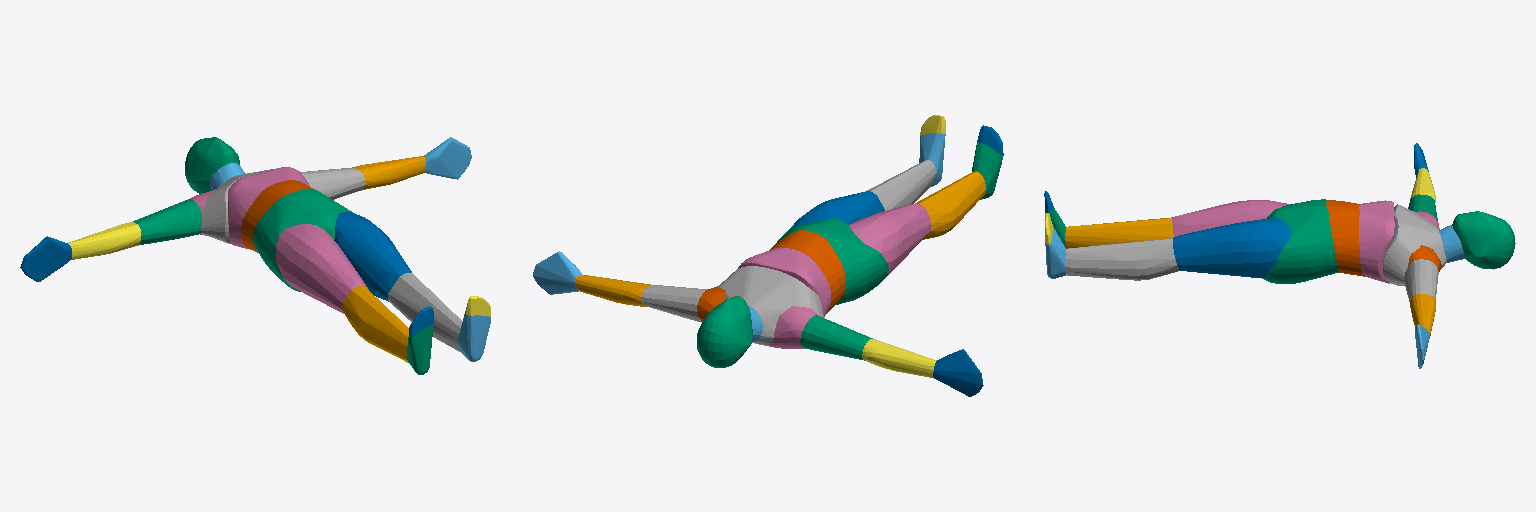
--- What the picture shows (computed from the rendered views, not written in the file) ---
Views: 3 orthographic renders of the robot side by side, from view 1: azimuth 30°, elevation 25°; view 2: azimuth 150°, elevation 25°; view 3: azimuth 270°, elevation 25°.
Model Humanoid with 29 links and 28 joints (12 revolute, 16 fixed), rooted at root, posed all joints at 0.
Links seen in each view (by area): view 1: right_UpLeg, left_UpLeg, hip, right_leg, left_leg, spine1, rightArm, head, rightForeArm, rightHand, leftForeArm, lefthand (+5 smaller); view 2: spine2, hip, right_UpLeg, head, right_leg, spine1, spine, rightArm, left_leg, left_UpLeg, rightForeArm, leftArm (+7 smaller); view 3: left_UpLeg, hip, left_leg, head, spine2, spine1, right_leg, right_UpLeg, spine, leftArm, leftForeArm, left_foot (+1 smaller).
Boxes of the visible links, x1,y1,x2,y2 form: right_UpLeg: [276, 224, 368, 313]; left_UpLeg: [334, 212, 411, 301]; hip: [253, 188, 354, 291]; right_leg: [342, 286, 409, 363]; left_leg: [387, 273, 462, 352]; spine1: [228, 167, 309, 248]; rightArm: [133, 199, 201, 244]; head: [185, 137, 239, 193]; rightForeArm: [68, 222, 140, 259]; rightHand: [20, 236, 71, 281]; leftForeArm: [353, 156, 425, 190]; lefthand: [424, 137, 471, 179]; spine2: [719, 266, 823, 346]; hip: [775, 218, 888, 304]; right_UpLeg: [849, 204, 930, 274]; head: [697, 296, 752, 367]; right_leg: [915, 171, 985, 239]; spine1: [738, 247, 830, 316]; spine: [770, 230, 845, 312]; rightArm: [800, 315, 872, 360]; left_leg: [865, 160, 936, 210]; left_UpLeg: [792, 191, 884, 226]; rightForeArm: [862, 339, 936, 377]; leftArm: [641, 285, 707, 322]; left_UpLeg: [1173, 218, 1291, 277]; hip: [1262, 199, 1338, 283]; left_leg: [1065, 238, 1179, 280]; head: [1452, 211, 1515, 269]; spine2: [1383, 204, 1446, 285]; spine1: [1359, 200, 1394, 283]; right_leg: [1065, 217, 1173, 248]; right_UpLeg: [1172, 200, 1289, 236]; spine: [1326, 200, 1364, 276]; leftArm: [1404, 259, 1438, 301]; leftForeArm: [1410, 293, 1435, 335]; left_foot: [1045, 229, 1065, 278].
Bounding box of the posed robot: 1.75 × 1.72 × 0.2905 m (x, y, z).
Meshes: 22 distinct files referenced, 22 mesh visuals loaded (22 OBJ).

The robot description file, URDF, robot "Humanoid":
<?xml version="1.0"?>
<robot name="Humanoid">
    <link name="root">
		
	</link>

    <link name="assist_link1">
        
    </link>

    <joint name="0" type="fixed">
        <origin xyz="0 0 0" rpy="0.0 0.0 0.0"/>
        <parent link="root"/>
        <child link="assist_link1"/>
        <axis xyz="0.0 0.0 0.0"/>
        <limit lower="0.0" upper="0.0" effort="0.0" velocity="0.0"/>
    </joint>

    <joint name="assist_jointA1" type="fixed">
        <origin xyz="0.0 0.0 0.0" rpy="0.0 0.0 0.0"/>
        <parent link="assist_link1"/>
        <child link="hip"/>
        <axis xyz="0.0 0.0 0.0"/>
        <limit lower="0.0" upper="0.0" effort="0.0" velocity="0.0"/>
    </joint>

    <link name="hip">
        <inertial>
            <origin xyz="0.00057561 -0.00681268 -0.01696218" rpy="0.0 0.0 0.0"/>
            <mass value="0.0"/>
            <inertia ixx="0.0" ixy="0.0" ixz="0.0" iyy="0.0" iyz="0.0" izz="0.0"/>
        </inertial>
        <visual>
            <origin xyz="0.00057561 -0.00681268 -0.01696218" rpy="0.0 0.0 0.0"/>
            <geometry>
                <mesh filename="package://Humanoid/meshes/body_parts_hips.obj" />
            </geometry>
        </visual>
        <collision>
            <origin xyz="0.00057561 -0.00681268 -0.01696218" rpy="0.0 0.0 0.0"/>
            <geometry>
                <mesh filename="package://Humanoid/meshes/body_parts_hips.obj" />
            </geometry>
        </collision>
    </link>

    <joint name="assist_jointA2" type="fixed">
        <origin xyz="0.0 0.0 0.0" rpy="0.0 0.0 0.0"/>
        <parent link="assist_link1"/>
        <child link="temp1"/>
        <axis xyz="0.0 0.0 0.0"/>
        <limit lower="0.0" upper="0.0" effort="0.0" velocity="0.0"/>
    </joint>

    <link name="temp2">
        
    </link>

    <link name="left_UpLeg">
        <inertial>
            <origin xyz="0.02136212 -0.15149257 0.00267958" rpy="0.0 0.0 0.0"/>
            <mass value="0.0"/>
            <inertia ixx="0.0" ixy="0.0" ixz="0.0" iyy="0.0" iyz="0.0" izz="0.0"/>
        </inertial>
        <visual>
            <origin xyz="0.02136212  -0.15149257  0.00267958" rpy="0.0 0.0 0.0"/>
            <geometry>
                <mesh filename="package://Humanoid/meshes/body_parts_leftUpLeg.obj" />
            </geometry>
        </visual>
        <collision>
            <origin xyz="0.02136212 -0.15149257 0.00267958" rpy="0.0 0.0 0.0"/>
            <geometry>
                <mesh filename="package://Humanoid/meshes/body_parts_leftUpLeg.obj" />
            </geometry>
        </collision>
    </link>

    <joint name="2" type="revolute">
        <origin xyz="0.06951974 -0.09140623 -0.00681533" rpy="0.0 0.0 0.0"/>
        <parent link="temp2"/>
        <child link="left_UpLeg"/>
        <axis xyz="1.0 0.0 0.0"/>
        <limit lower="-2.5" upper="1.4" effort="1000.0" velocity="0.5"/>
    </joint>

    <link name="temp1">
        
    </link>

    <joint name="assist_jointA3" type="fixed">
        <origin xyz="0.0 0.0 0.0" rpy="0.0 0.0 0.0"/>
        <parent link="assist_link1"/>
        <child link="temp2"/>
    </joint>

    <link name="right_UpLeg">
        <inertial>
            <origin xyz="-0.02252603 -0.15352734 -0.00307775" rpy="0.0 0.0 0.0"/>
            <mass value="0.0"/>
            <inertia ixx="0.0" ixy="0.0" ixz="0.0" iyy="0.0" iyz="0.0" izz="0.0"/>
        </inertial>
        <visual>
            <origin xyz="-0.02252603 -0.15352734 -0.00307775" rpy="0.0 0.0 0.0"/>
            <geometry>
                <mesh filename="package://Humanoid/meshes/body_parts_rightUpLeg.obj" />
            </geometry>
        </visual>
        <collision>
            <origin xyz="-0.02252603 -0.15352734 -0.00307775" rpy="0.0 0.0 0.0"/>
            <geometry>
                <mesh filename="package://Humanoid/meshes/body_parts_rightUpLeg.obj" />
            </geometry>
        </collision>
    </link>

    <joint name="1" type="revolute">
        <origin xyz="-0.06767048 -0.09052169 -0.00431982" rpy="0.0 0.0 0.0"/>
        <parent link="temp1"/>
        <child link="right_UpLeg"/>
        <axis xyz="1.0 0.0 0.0"/>
        <limit lower="-2.5" upper="1.4" effort="1000.0" velocity="0.5"/>
    </joint>

    <link name="left_leg">
        <inertial>
            <origin xyz="-0.00726278 -0.16462932 -0.0345356" rpy="0.0 0.0 0.0"/>
            <mass value="0.0"/>
            <inertia ixx="0.0" ixy="0.0" ixz="0.0" iyy="0.0" iyz="0.0" izz="0.0"/>
        </inertial>
        <visual>
            <origin xyz="-0.00726278 -0.16462932 -0.0345356" rpy="0.0 0.0 0.0"/>
            <geometry>
                <mesh filename="package://Humanoid/meshes/body_parts_leftLeg.obj" />
            </geometry>
        </visual>
        <collision>
            <origin xyz="-0.00726278 -0.16462932 -0.0345356" rpy="0.0 0.0 0.0"/>
            <geometry>
                <mesh filename="package://Humanoid/meshes/body_parts_leftLeg.obj" />
            </geometry>
        </collision>
    </link>

    <joint name="5" type="revolute">
        <origin xyz="0.03427655 -0.37519857 -0.00449581" rpy="0.0 0.0 0.0"/>
        <parent link="left_UpLeg"/>
        <child link="left_leg"/>
        <axis xyz="1.0 0.0 0.0"/>
        <limit lower="-0.1" upper="2.5" effort="1000.0" velocity="0.5"/>
    </joint>

    <link name="right_leg">
        <inertial>
            <origin xyz="0.01018021 -0.15886355 -0.03476419" rpy="0.0 0.0 0.0"/>
            <mass value="0.0"/>
            <inertia ixx="0.0" ixy="0.0" ixz="0.0" iyy="0.0" iyz="0.0" izz="0.0"/>
        </inertial>
        <visual>
            <origin xyz="0.01018021 -0.15886355 -0.03476419" rpy="0.0 0.0 0.0"/>
            <geometry>
                <mesh filename="package://Humanoid/meshes/body_parts_rightLeg.obj" />
            </geometry>
        </visual>
        <collision>
            <origin xyz="0.01018021 -0.15886355 -0.03476419" rpy="0.0 0.0 0.0"/>
            <geometry>
                <mesh filename="package://Humanoid/meshes/body_parts_rightLeg.obj" />
            </geometry>
        </collision>
    </link>

    <joint name="4" type="revolute">
        <origin xyz="-0.03829005 -0.382569 -0.00885003" rpy="0.0 0.0 0.0"/>
        <parent link="right_UpLeg"/>
        <child link="right_leg"/>
        <axis xyz="1.0 0.0 0.0"/>
        <limit lower="-0.1" upper="2.5" effort="1000.0" velocity="0.5"/>
    </joint>

    <link name="left_foot">
        <inertial>
            <origin xyz="0.01451171 -0.03682505 0.03742239" rpy="0.0 0.0 0.0"/>
            <mass value="0.0"/>
            <inertia ixx="0.0" ixy="0.0" ixz="0.0" iyy="0.0" iyz="0.0" izz="0.0"/>
        </inertial>
        <visual>
            <origin xyz="0.01451171 -0.03682505 0.03742239" rpy="0.0 0.0 0.0"/>
            <geometry>
                <mesh filename="package://Humanoid/meshes/body_parts_leftFoot.obj" />
            </geometry>
        </visual>
        <collision>
            <origin xyz="0.01451171 -0.03682505 0.03742239" rpy="0.0 0.0 0.0"/>
            <geometry>
                <mesh filename="package://Humanoid/meshes/body_parts_leftFoot.obj" />
            </geometry>
        </collision>
    </link>

    <joint name="8" type="revolute">
        <origin xyz="-0.0135957 -0.39796048 -0.04369333" rpy="0.0 0.0 0.0"/>
        <parent link="left_leg"/>
        <child link="left_foot"/>
        <axis xyz="1.0 0.0 0.0"/>
        <limit lower="-0.4" upper="0.7" effort="1000.0" velocity="0.5"/>
    </joint>

    <link name="right_foot">
        <inertial>
            <origin xyz="-0.01278681 -0.02989952 0.0397387" rpy="0.0 0.0 0.0"/>
            <mass value="0.0"/>
            <inertia ixx="0.0" ixy="0.0" ixz="0.0" iyy="0.0" iyz="0.0" izz="0.0"/>
        </inertial>
        <visual>
            <origin xyz="-0.01278681 -0.02989952 0.0397387" rpy="0.0 0.0 0.0"/>
            <geometry>
                <mesh filename="package://Humanoid/meshes/body_parts_rightFoot.obj" />
            </geometry>
        </visual>
        <collision>
            <origin xyz="-0.01278681 -0.02989952 0.0397387" rpy="0.0 0.0 0.0"/>
            <geometry>
                <mesh filename="package://Humanoid/meshes/body_parts_rightFoot.obj" />
            </geometry>
        </collision>
    </link>

    <joint name="7" type="revolute">
        <origin xyz="0.01577377 -0.3984146 -0.0423118" rpy="0.0 0.0 0.0"/>
        <parent link="right_leg"/>
        <child link="right_foot"/>
        <axis xyz="1.0 0.0 0.0"/>
        <limit lower="-0.4" upper="0.7" effort="1000.0" velocity="0.5"/>
    </joint>

    <link name="left_toe">
        <inertial>
            <origin xyz="-0.0072139 -0.00405795 0.02618084" rpy="0.0 0.0 0.0"/>
            <mass value="0.0"/>
            <inertia ixx="0.0" ixy="0.0" ixz="0.0" iyy="0.0" iyz="0.0" izz="0.0"/>
        </inertial>
        <visual>
            <origin xyz="-0.0072139 -0.00405795 0.02618084" rpy="0.0 0.0 0.0"/>
            <geometry>
                <mesh filename="package://Humanoid/meshes/body_parts_leftToeBase.obj" />
            </geometry>
        </visual>
        <collision>
            <origin xyz="-0.0072139 -0.00405795 0.02618084" rpy="0.0 0.0 0.0"/>
            <geometry>
                <mesh filename="package://Humanoid/meshes/body_parts_leftToeBase.obj" />
            </geometry>
        </collision>
    </link>

    <joint name="11" type="fixed">
        <origin xyz="0.02635814 -0.05579078 0.1192884" rpy="0.0 0.0 0.0"/>
        <parent link="left_foot"/>
        <child link="left_toe"/>
        <axis xyz="0.0 0.0 0.0"/>
        <limit lower="0.0" upper="0.0" effort="0.0" velocity="0.0"/>
    </joint>

    <link name="right_toe">
        <inertial>
            <origin xyz="0.00808544 -0.00602809 0.02469485" rpy="0.0 0.0 0.0"/>
            <mass value="0.0"/>
            <inertia ixx="0.0" ixy="0.0" ixz="0.0" iyy="0.0" iyz="0.0" izz="0.0"/>
        </inertial>
        <visual>
            <origin xyz="0.00808544 -0.00602809 0.02469485" rpy="0.0 0.0 0.0"/>
            <geometry>
                <mesh filename="package://Humanoid/meshes/body_parts_rightToeBase.obj" />
            </geometry>
        </visual>
        <collision>
            <origin xyz="0.00808544 -0.00602809 0.02469485" rpy="0.0 0.0 0.0"/>
            <geometry>
                <mesh filename="package://Humanoid/meshes/body_parts_rightToeBase.obj" />
            </geometry>
        </collision>
    </link>

    <joint name="10" type="fixed">
        <origin xyz="-0.02537176 -0.04814398 0.12334795" rpy="0.0 0.0 0.0"/>
        <parent link="right_foot"/>
        <child link="right_toe"/>
        <axis xyz="0.0 0.0 0.0"/>
        <limit lower="0.0" upper="0.0" effort="0.0" velocity="0.0"/>
    </joint>

    <link name="spine">
        <inertial>
            <origin xyz="0.0029969 0.06265952 0.02763221" rpy="0.0 0.0 0.0"/>
            <mass value="0.0"/>
            <inertia ixx="0.0" ixy="0.0" ixz="0.0" iyy="0.0" iyz="0.0" izz="0.0"/>
        </inertial>
        <visual>
            <origin xyz="0.0029969 0.06265952 0.02763221" rpy="0.0 0.0 0.0"/>
            <geometry>
                <mesh filename="package://Humanoid/meshes/body_parts_spine.obj" />
            </geometry>
        </visual>
        <collision>
            <origin xyz="0.0029969 0.06265952 0.02763221" rpy="0.0 0.0 0.0"/>
            <geometry>
                <mesh filename="package://Humanoid/meshes/body_parts_spine.obj" />
            </geometry>
        </collision>
    </link>
    
    <joint name="3" type="fixed">
        <origin xyz="-0.00253287 0.10896324 -0.02669631" rpy="0.0 0.0 0.0"/>
        <parent link="hip"/>
        <child link="spine"/>
        <axis xyz="0.0 0.0 0.0"/>
        <limit lower="0.0" upper="0.0" effort="0.0" velocity="0.0"/>
    </joint>

    <link name="spine1">
        <inertial>
            <origin xyz="-0.00052418 0.02933144 0.02045965" rpy="0.0 0.0 0.0"/>
            <mass value="0.0"/>
            <inertia ixx="0.0" ixy="0.0" ixz="0.0" iyy="0.0" iyz="0.0" izz="0.0"/>
        </inertial>
        <visual>
            <origin xyz="-0.00052418 0.02933144 0.02045965" rpy="0.0 0.0 0.0"/>
            <geometry>
                <mesh filename="package://Humanoid/meshes/body_parts_spine1.obj" />
            </geometry>
        </visual>
        <collision>
            <origin xyz="-0.00052418 0.02933144 0.02045965" rpy="0.0 0.0 0.0"/>
            <geometry>
                <mesh filename="package://Humanoid/meshes/body_parts_spine1.obj" />
            </geometry>
        </collision>
    </link>

    <joint name="6" type="fixed">
        <origin xyz="0.00548704 0.13518043 0.00109247" rpy="0.0 0.0 0.0"/>
        <parent link="spine"/>
        <child link="spine1"/>
        <axis xyz="0.0 0.0 0.0"/>
        <limit lower="0.0" upper="0.0" effort="0.0" velocity="0.0"/>
    </joint>

    <link name="spine2">
        <inertial>
            <origin xyz="-0.0022121 0.09440039 -0.03596294" rpy="0.0 0.0 0.0"/>
            <mass value="0.0"/>
            <inertia ixx="0.0" ixy="0.0" ixz="0.0" iyy="0.0" iyz="0.0" izz="0.0"/>
        </inertial>
        <visual>
            <origin xyz="-0.0022121 0.09440039 -0.03596294" rpy="0.0 0.0 0.0"/>
            <geometry>
                <mesh filename="package://Humanoid/meshes/body_parts_spine2.obj" />
            </geometry>
        </visual>
        <collision>
            <origin xyz="-0.0022121 0.09440039 -0.03596294" rpy="0.0 0.0 0.0"/>
            <geometry>
                <mesh filename="package://Humanoid/meshes/body_parts_spine2.obj" />
            </geometry>
        </collision>
    </link>

    <link name="assist_link2">
        
    </link>

    <joint name="9" type="revolute">
        <origin xyz="0.001457 0.05292223 0.02542457" rpy="0.0 0.0 0.0"/>
        <parent link="spine1"/>
        <child link="assist_link2"/>
        <axis xyz="0.0 1.0 0.0"/>
        <limit lower="-1.4" upper="1.4" effort="1000.0" velocity="0.5"/>
    </joint>

    <joint name="assist_B1" type="fixed">
        <origin xyz="0.0 0.0 0.0" rpy="0.0 0.0 0.0"/>
        <parent link="assist_link2"/>
        <child link="temp14"/>
        <axis xyz="0.0 0.0 0.0"/>
        <limit lower="0.0" upper="0.0" effort="0.0" velocity="0.0"/>
    </joint>

     <joint name="assist_B2" type="fixed">
        <origin xyz="0.0 0.0 0.0" rpy="0.0 0.0 0.0"/>
        <parent link="assist_link2"/>
        <child link="spine2"/>
        <axis xyz="0.0 0.0 0.0"/>
        <limit lower="0.0" upper="0.0" effort="0.0" velocity="0.0"/>
    </joint>

     <joint name="assist_B3" type="fixed">
        <origin xyz="0.0 0.0 0.0" rpy="0.0 0.0 0.0"/>
        <parent link="assist_link2"/>
        <child link="temp13"/>
        <axis xyz="0.0 0.0 0.0"/>
        <limit lower="0.0" upper="0.0" effort="0.0" velocity="0.0"/>
    </joint>
    

    <link name="neck">
        <inertial>
            <origin xyz="0.00058504 0.03762274 0.01938053" rpy="0.0 0.0 0.0"/>
            <mass value="0.0"/>
            <inertia ixx="0.0" ixy="0.0" ixz="0.0" iyy="0.0" iyz="0.0" izz="0.0"/>
        </inertial>
        <visual>
            <origin xyz="0.00058504 0.03762274 0.01938053" rpy="0.0 0.0 0.0"/>
            <geometry>
                <mesh filename="package://Humanoid/meshes/body_parts_neck.obj" />
            </geometry>
        </visual>
        <collision>
            <origin xyz="0.00058504 0.03762274 0.01938053" rpy="0.0 0.0 0.0"/>
            <geometry>
                <mesh filename="package://Humanoid/meshes/body_parts_neck.obj" />
            </geometry>
        </collision>
    </link>

    <joint name="12" type="revolute">
        <origin xyz="-0.00277839 0.21387038 -0.04285703" rpy="0.0 0.0 0.0"/>
        <parent link="spine2"/>
        <child link="neck"/>
        <axis xyz="0.0 1.0 0.0"/>
        <limit lower="-0.6" upper="0.6" effort="1000.0" velocity="0.5"/>
    </joint>

    <link name="head">
        <inertial>
            <origin xyz="-0.00434165 0.0912436 -0.0164248" rpy="0.0 0.0 0.0"/>
            <mass value="0.0"/>
            <inertia ixx="0.0" ixy="0.0" ixz="0.0" iyy="0.0" iyz="0.0" izz="0.0"/>
        </inertial>
        <visual>
            <origin xyz="-0.00434165 0.0912436 -0.0164248" rpy="0.0 0.0 0.0"/>
            <geometry>
                <mesh filename="package://Humanoid/meshes/body_parts_head.obj" />
            </geometry>
        </visual>
        <collision>
            <origin xyz="-0.00434165 0.0912436 -0.0164248" rpy="0.0 0.0 0.0"/>
            <geometry>
                <mesh filename="package://Humanoid/meshes/body_parts_head.obj" />
            </geometry>
        </collision>
    </link>

    <joint name="15" type="fixed">
        <origin xyz="0.00515184 0.06496963 0.05134897" rpy="0.0 0.0 0.0"/>
        <parent link="neck"/>
        <child link="head"/>
        <axis xyz="0.0 0.0 0.0"/>
        <limit lower="0.0" upper="0.0" effort="0.0" velocity="0.0"/>
    </joint>

    <link name="temp14">
        <inertial>
            <origin xyz="0.0 0.0 0.0" rpy="0.0 0.0 0.0"/>
            <mass value="0.0"/>
            <inertia ixx="0.0" ixy="0.0" ixz="0.0" iyy="0.0" iyz="0.0" izz="0.0"/>
        </inertial>
        <visual name="">
            <origin xyz="0.0 0.0 0.0" rpy="0.0 0.0 0.0"/>
            <geometry>
                <box size="0.0 0.0 0.0"/>
            </geometry>
            <material name="">
                <color rgba="1.0 0.0 0.0 1.0"/>
                <texture filename=""/>
            </material>
        </visual>
        <collision>
            <origin xyz="0.0 0.0 0.0" rpy="0.0 0.0 0.0"/>
            <geometry>
                <box size="0.0 0.0 0.0"/>
            </geometry>
        </collision>
    </link>

    <joint name="14" type="fixed">
        <origin xyz="0.07884474 0.12174932 -0.03408961" rpy="0.0 0.0 0.0"/>
        <parent link="temp14"/>
        <child link="leftShoulder"/>
        <axis xyz="1.0 0.0 1.0"/>
        <limit lower="-1.0" upper="1.0" effort="1000.0" velocity="0.5"/>
    </joint>

    <link name="temp13">
        <inertial>
            <origin xyz="0.0 0.0 0.0" rpy="0.0 0.0 0.0"/>
            <mass value="0.0"/>
            <inertia ixx="0.0" ixy="0.0" ixz="0.0" iyy="0.0" iyz="0.0" izz="0.0"/>
        </inertial>
        <visual name="">
            <origin xyz="0.0 0.0 0.0" rpy="0.0 0.0 0.0"/>
            <geometry>
                <box size="0.0 0.0 0.0"/>
            </geometry>
            <material name="">
                <color rgba="1.0 0.0 0.0 1.0"/>
                <texture filename=""/>
            </material>
        </visual>
        <collision>
            <origin xyz="0.0 0.0 0.0" rpy="0.0 0.0 0.0"/>
            <geometry>
                <box size="0.0 0.0 0.0"/>
            </geometry>
        </collision>
    </link>

    <joint name="13" type="fixed">
        <origin xyz="-0.08175919 0.11883285 -0.03861528" rpy="0.0 0.0 0.0"/>
        <parent link="temp13"/>
        <child link="rightShoulder"/>
        <axis xyz="1.0 0.0 1.0"/>
        <limit lower="-1.0" upper="1.0" effort="1000.0" velocity="0.5"/>
    </joint>

    <link name="leftShoulder">
        <inertial>
            <origin xyz="0.06559623 0.02613187 -0.02027318" rpy="0.0 0.0 0.0"/>
            <mass value="0.0"/>
            <inertia ixx="0.0" ixy="0.0" ixz="0.0" iyy="0.0" iyz="0.0" izz="0.0"/>
        </inertial>
        <visual>
            <origin xyz="0.06559623 0.02613187 -0.02027318" rpy="0.0 0.0 0.0"/>
            <geometry>
                <mesh filename="package://Humanoid/meshes/body_parts_leftShoulder.obj" />
            </geometry>
        </visual>
        <collision>
            <origin xyz="0.06559623 0.02613187 -0.02027318" rpy="0.0 0.0 0.0"/>
            <geometry>
                <mesh filename="package://Humanoid/meshes/body_parts_leftShoulder.obj" />
            </geometry>
        </collision>
    </link>

    <link name="rightShoulder">
        <inertial>
            <origin xyz="-0.0667859 0.02682777 -0.01567558" rpy="0.0 0.0 0.0"/>
            <mass value="0.0"/>
            <inertia ixx="0.0" ixy="0.0" ixz="0.0" iyy="0.0" iyz="0.0" izz="0.0"/>
        </inertial>
        <visual>
            <origin xyz="-0.0667859 0.02682777 -0.01567558" rpy="0.0 0.0 0.0"/>
            <geometry>
                <mesh filename="package://Humanoid/meshes/body_parts_rightShoulder.obj" />
            </geometry>
        </visual>
        <collision>
            <origin xyz="-0.0667859 0.02682777 -0.01567558" rpy="0.0 0.0 0.0"/>
            <geometry>
                <mesh filename="package://Humanoid/meshes/body_parts_rightShoulder.obj" />
            </geometry>
        </collision>
    </link>

    <joint name="17" type="revolute">
        <origin xyz="0.09097692 0.03046888 -0.00886815" rpy="0.0 0.0 0.0"/>
        <parent link="leftShoulder"/>
        <child link="leftArm"/>
        <axis xyz="0.0 0.0 1.0"/>
        <limit lower="-1.4" upper="0.9" effort="1000.0" velocity="0.5"/>
    </joint>

    <link name="leftArm">
        <inertial>
            <origin xyz="0.12948829 -0.01228957 -0.0090026" rpy="0.0 0.0 0.0"/>
            <mass value="0.0"/>
            <inertia ixx="0.0" ixy="0.0" ixz="0.0" iyy="0.0" iyz="0.0" izz="0.0"/>
        </inertial>
        <visual>
            <origin xyz="0.12948829 -0.01228957 -0.0090026" rpy="0.0 0.0 0.0"/>
            <geometry>
                <mesh filename="package://Humanoid/meshes/body_parts_leftArm.obj" />
            </geometry>
        </visual>
        <collision>
            <origin xyz="0.12948829 -0.01228957 -0.0090026" rpy="0.0 0.0 0.0"/>
            <geometry>
                <mesh filename="package://Humanoid/meshes/body_parts_leftArm.obj" />
            </geometry>
        </collision>
    </link>

    <joint name="19" type="fixed">
        <origin xyz="0.2596122 -0.01277207 -0.02745643" rpy="0.0 0.0 0.0"/>
        <parent link="leftArm"/>
        <child link="leftForeArm"/>
    </joint>

    <link name="leftForeArm">
        <inertial>
            <origin xyz="0.10665728 0.00690599 0.00605961" rpy="0.0 0.0 0.0"/>
            <mass value="0.0"/>
            <inertia ixx="0.0" ixy="0.0" ixz="0.0" iyy="0.0" iyz="0.0" izz="0.0"/>
        </inertial>
        <visual>
            <origin xyz="0.10665728 0.00690599 0.00605961" rpy="0.0 0.0 0.0"/>
            <geometry>
                <mesh filename="package://Humanoid/meshes/body_parts_leftForeArm.obj" />
            </geometry>
        </visual>
        <collision>
            <origin xyz="0.10665728 0.00690599 0.00605961" rpy="0.0 0.0 0.0"/>
            <geometry>
                <mesh filename="package://Humanoid/meshes/body_parts_leftForeArm.obj" />
            </geometry>
        </collision>
    </link>

    <joint name="21" type="revolute">
        <origin xyz="0.2492336 0.00898604 -0.00117092" rpy="0.0 0.0 0.0"/>
        <parent link="leftForeArm"/>
        <child link="lefthand"/>
        <axis xyz="0.0 0.0 1.0"/>
        <limit lower="-1.4" upper="0.6" effort="1000.0" velocity="0.5"/>
    </joint>

    <link name="lefthand">
        <inertial>
            <origin xyz="0.08488861 -0.00938576 0.00616219" rpy="0.0 0.0 0.0"/>
            <mass value="0.0"/>
            <inertia ixx="0.0" ixy="0.0" ixz="0.0" iyy="0.0" iyz="0.0" izz="0.0"/>
        </inertial>
        <visual>
            <origin xyz="0.08488861 -0.00938576 0.00616219" rpy="0.0 0.0 0.0"/>
            <geometry>
                <mesh filename="package://Humanoid/meshes/body_parts_leftHand.obj" />
            </geometry>
        </visual>
        <collision>
            <origin xyz="0.08488861 -0.00938576 0.00616219" rpy="0.0 0.0 0.0"/>
            <geometry>
                <mesh filename="package://Humanoid/meshes/body_parts_leftHand.obj" />
            </geometry>
        </collision>
    </link>

    <joint name="16" type="revolute">
        <origin xyz="-0.09601238 0.03255117 -0.00914307" rpy="0.0 0.0 0.0"/>
        <parent link="rightShoulder"/>
        <child link="rightArm"/>
        <axis xyz="0.0 0.0 1.0"/>
        <limit lower="-1.4" upper="0.9" effort="1000.0" velocity="0.5"/>
    </joint>

    <link name="rightArm">
        <inertial>
            <origin xyz="-0.12550239 -0.01296561 -0.00590812" rpy="0.0 0.0 0.0"/>
            <mass value="0.0"/>
            <inertia ixx="0.0" ixy="0.0" ixz="0.0" iyy="0.0" iyz="0.0" izz="0.0"/>
        </inertial>
        <visual>
            <origin xyz="-0.12550239 -0.01296561 -0.00590812" rpy="0.0 0.0 0.0"/>
            <geometry>
                <mesh filename="package://Humanoid/meshes/body_parts_rightArm.obj" />
            </geometry>
        </visual>
        <collision>
            <origin xyz="-0.12550239 -0.01296561 -0.00590812" rpy="0.0 0.0 0.0"/>
            <geometry>
                <mesh filename="package://Humanoid/meshes/body_parts_rightArm.obj" />
            </geometry>
        </collision>
    </link>

    <joint name="18" type="fixed">
        <origin xyz="-0.25374195 -0.01332924 -0.02140098" rpy="0.0 0.0 0.0"/>
        <parent link="rightArm"/>
        <child link="rightForeArm"/>
    </joint>

    <link name="rightForeArm">
        <inertial>
            <origin xyz="-0.10992141 0.00679169 0.00313351" rpy="0.0 0.0 0.0"/>
            <mass value="0.0"/>
            <inertia ixx="0.0" ixy="0.0" ixz="0.0" iyy="0.0" iyz="0.0" izz="0.0"/>
        </inertial>
        <visual>
            <origin xyz="-0.10992141 0.00679169 0.00313351" rpy="0.0 0.0 0.0"/>
            <geometry>
                <mesh filename="package://Humanoid/meshes/body_parts_rightForeArm.obj" />
            </geometry>
        </visual>
        <collision>
            <origin xyz="-0.10992141 0.00679169 0.00313351" rpy="0.0 0.0 0.0"/>
            <geometry>
                <mesh filename="package://Humanoid/meshes/body_parts_rightForeArm.obj" />
            </geometry>
        </collision>
    </link>

    <joint name="20" type="revolute">
        <origin xyz="-0.2552981 0.0077723 -0.0055592" rpy="0.0 0.0 0.0"/>
        <parent link="rightForeArm"/>
        <child link="rightHand"/>
        <axis xyz="0.0 0.0 1.0"/>
        <limit lower="-1.4" upper="0.6" effort="1000.0" velocity="0.5"/>
    </joint>

    <link name="rightHand">
        <inertial>
            <origin xyz="-0.08138476 -0.00979895 0.0080402" rpy="0.0 0.0 0.0"/>
            <mass value="0.0"/>
            <inertia ixx="0.0" ixy="0.0" ixz="0.0" iyy="0.0" iyz="0.0" izz="0.0"/>
        </inertial>
        <visual>
            <origin xyz="-0.08138476 -0.00979895 0.0080402" rpy="0.0 0.0 0.0"/>
            <geometry>
                <mesh filename="package://Humanoid/meshes/body_parts_rightHand.obj" />
            </geometry>
        </visual>
        <collision>
            <origin xyz="-0.08138476 -0.00979895 0.0080402" rpy="0.0 0.0 0.0"/>
            <geometry>
                <mesh filename="package://Humanoid/meshes/body_parts_rightHand.obj" />
            </geometry>
        </collision>
    </link>

</robot>
